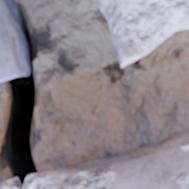brick: (94, 0, 188, 67), (0, 0, 29, 81)
broken_brick: (0, 130, 188, 188)
crack: (0, 2, 38, 186)
